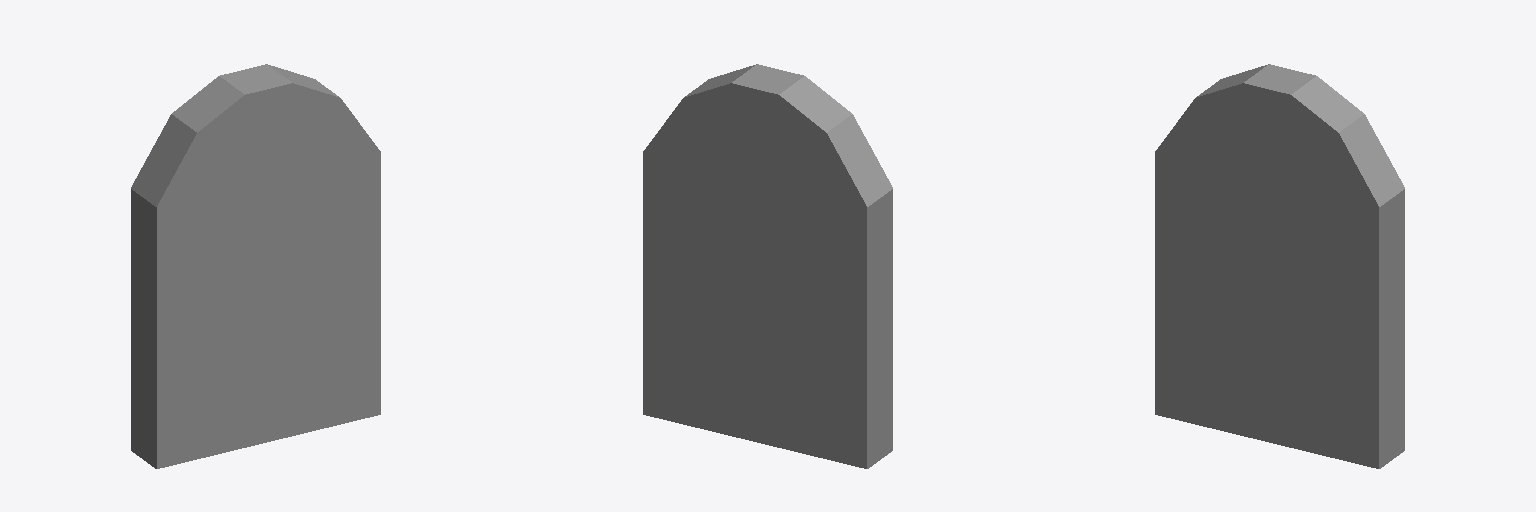
3 views of the same model, side by side, from view 1: azimuth 30°, elevation 25°; view 2: azimuth 150°, elevation 25°; view 3: azimuth 330°, elevation 25° (orthographic).
Parts seen in each view (by area): view 1: Куб; view 2: Куб; view 3: Куб.
Part boxes in pixels (x1,y1,x2,y2): Куб: (131,64,380,468); Куб: (643,64,892,468); Куб: (1155,64,1404,468).
Size of the model in its own units: 1 by 1.5 by 0.2.
Materials: 1 (1 with a texture image).